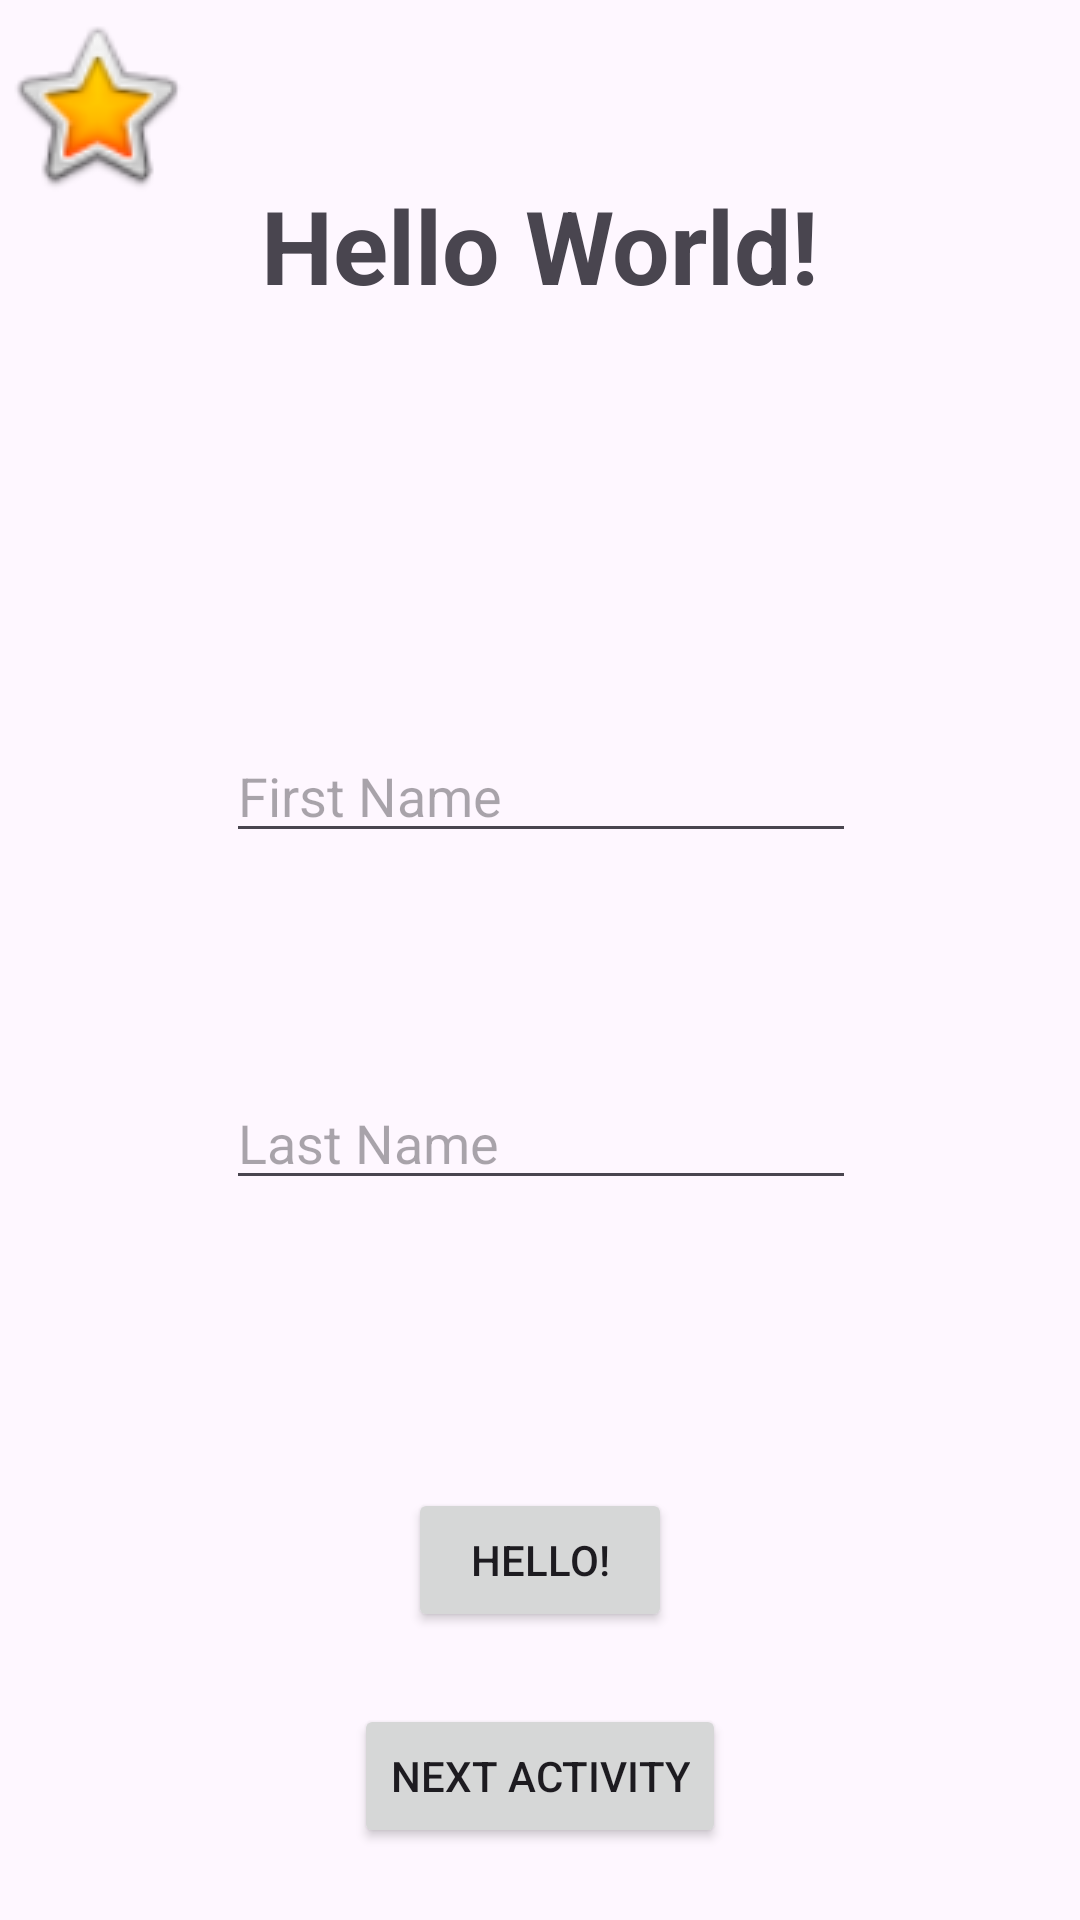

Icon click points for this 1080px x 1920px phone screenshot, format point (x, y):
star on: point (97, 106)
